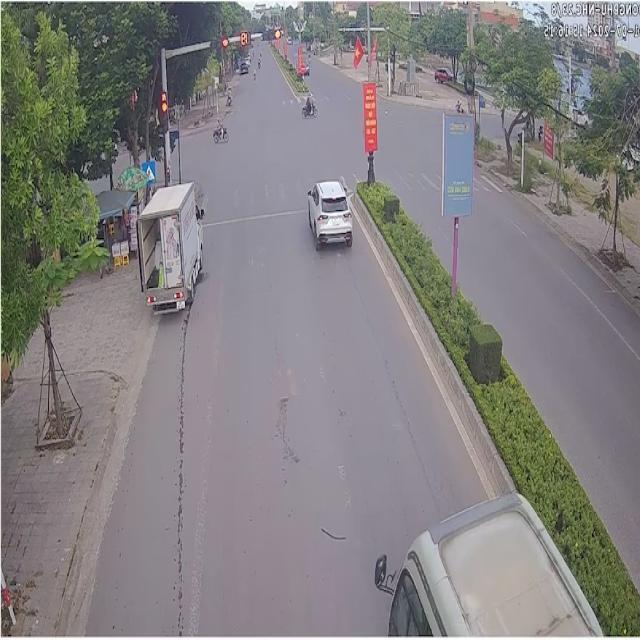car: (138, 180, 202, 309), (307, 180, 352, 249)
red_light: (160, 89, 167, 132), (262, 26, 279, 39)
stop_line: (183, 202, 349, 228)
yellow_light: (249, 31, 254, 36)
